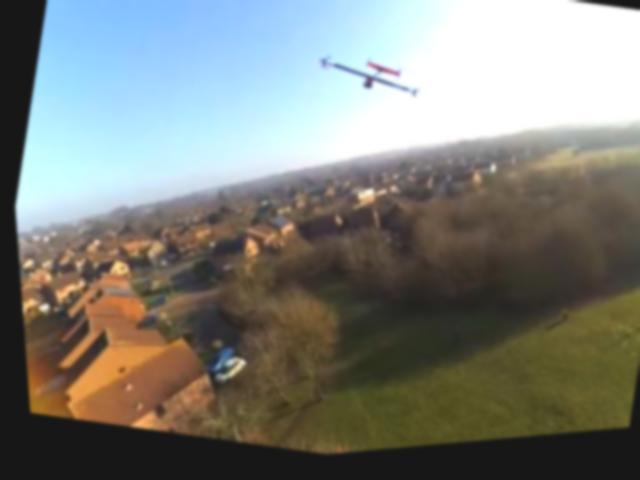uav: (305, 37, 439, 126)
